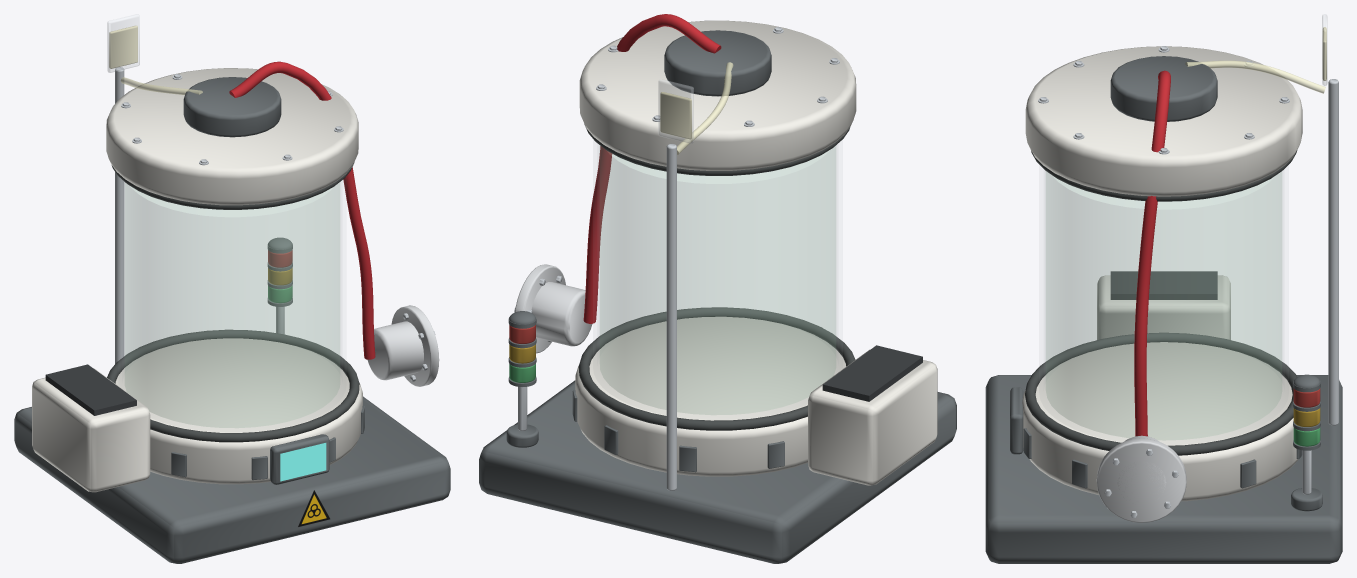
File: capsula.glb
3 views of the same model, side by side, from view 1: azimuth 30°, elevation 25°; view 2: azimuth 150°, elevation 25°; view 3: azimuth 270°, elevation 25° (orthographic). The views are drawn at different scales.
Parts seen in each view (by area): view 1: cap0_fluido, cap0_vidrio, cap0_zocalo, cap0_base, cap0_tapa, tolva_suero, cap0_junta_baja, cap0_cupula, cap0_via_sangre, tolva_suero_boca, salida, cap0_palo (+7 smaller); view 2: cap0_fluido, cap0_vidrio, cap0_zocalo, cap0_base, cap0_tapa, tolva_suero, cap0_cupula, cap0_junta_baja, cap0_palo, cap0_via_sangre, tolva_suero_boca, salida (+6 smaller); view 3: cap0_fluido, cap0_vidrio, cap0_zocalo, cap0_tapa, cap0_base, brida_salida, cap0_junta_baja, cap0_cupula, tolva_suero, cap0_via_sangre, cap0_palo, tolva_suero_boca (+4 smaller).
Part boxes in pixels (x1,y1,x2,y2): cap0_fluido: (125,183,339,427); cap0_vidrio: (122,181,342,380); cap0_zocalo: (14,396,450,563); cap0_base: (115,338,362,484); cap0_tapa: (106,68,358,205); tolva_suero: (32,368,150,492); cap0_junta_baja: (107,329,359,442); cap0_cupula: (183,77,281,137); cap0_via_sangre: (229,61,375,359); tolva_suero_boca: (45,364,136,415); salida: (367,321,423,380); cap0_palo: (115,67,124,363); cap0_fluido: (600,146,835,414); cap0_vidrio: (597,144,838,363); cap0_zocalo: (479,380,956,563); cap0_base: (575,316,846,476); cap0_tapa: (579,20,856,170); tolva_suero: (808,349,937,485); cap0_cupula: (664,30,771,96); cap0_junta_baja: (578,307,855,430); cap0_palo: (666,143,676,490); cap0_via_sangre: (583,14,721,323); tolva_suero_boca: (822,345,922,401); salida: (531,282,592,346); cap0_fluido: (1046,172,1281,439); cap0_vidrio: (1044,170,1284,388); cap0_zocalo: (985,375,1342,563); cap0_tapa: (1025,46,1302,196); cap0_base: (1022,342,1298,501); brida_salida: (1096,438,1186,522); cap0_junta_baja: (1025,332,1297,455); cap0_cupula: (1110,56,1217,121); tolva_suero: (1097,275,1230,339); cap0_via_sangre: (1134,70,1170,436); cap0_palo: (1328,79,1338,425); tolva_suero_boca: (1110,271,1217,299).
Bounding box in the file's own units: 0.998 × 1.12 × 0.8005.
17 materials, 1 textured.
